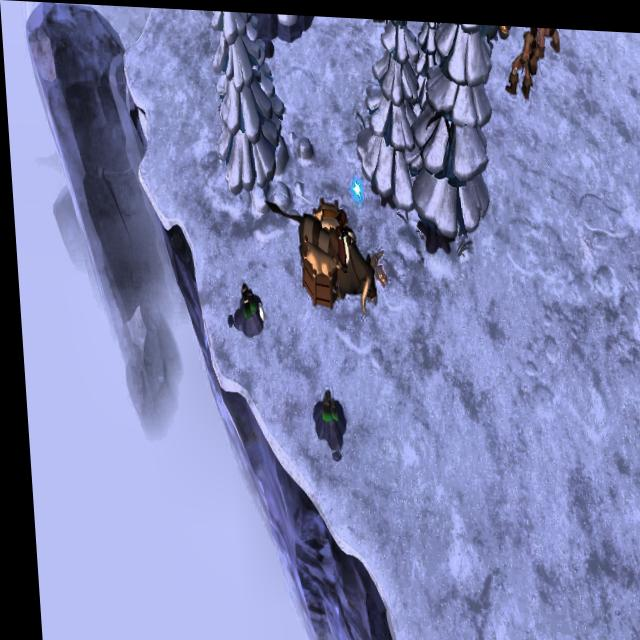enemy_factionKeeper: (503, 20, 541, 92), (531, 22, 563, 53)
ore_t3: (312, 381, 333, 428), (233, 277, 255, 318)
